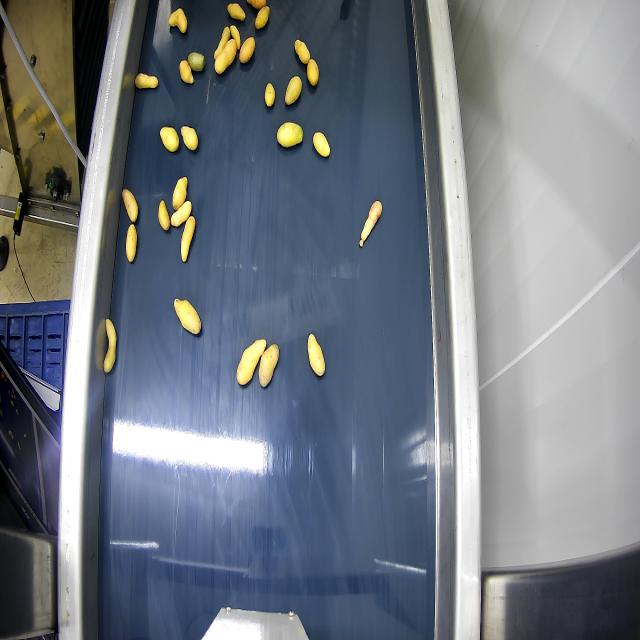Baby Potato: (237, 339, 266, 385), (359, 200, 382, 247), (174, 299, 200, 335), (259, 344, 278, 387), (307, 333, 325, 377), (180, 215, 196, 262), (215, 39, 236, 74), (277, 122, 303, 147), (104, 319, 116, 373), (122, 190, 138, 223), (214, 27, 230, 60), (171, 200, 191, 226), (285, 75, 302, 105), (172, 176, 187, 210), (168, 8, 187, 33), (160, 127, 179, 151), (126, 224, 137, 263), (239, 37, 255, 63), (181, 127, 198, 151), (313, 132, 329, 157), (254, 6, 270, 30), (295, 40, 310, 64), (135, 73, 158, 88), (158, 200, 169, 231), (187, 52, 204, 71), (180, 60, 193, 84), (228, 3, 245, 21), (307, 59, 318, 86), (230, 25, 241, 49), (265, 83, 275, 107), (247, 0, 266, 9)
